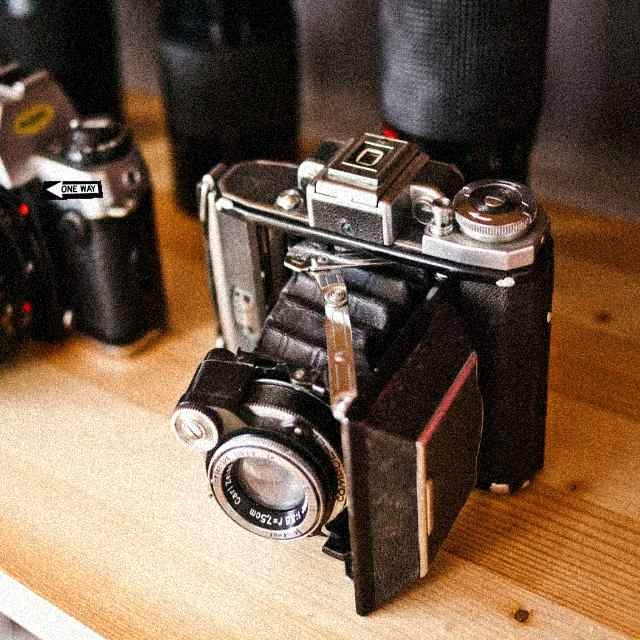ONE_WAY_ left: (40, 180, 103, 200)
